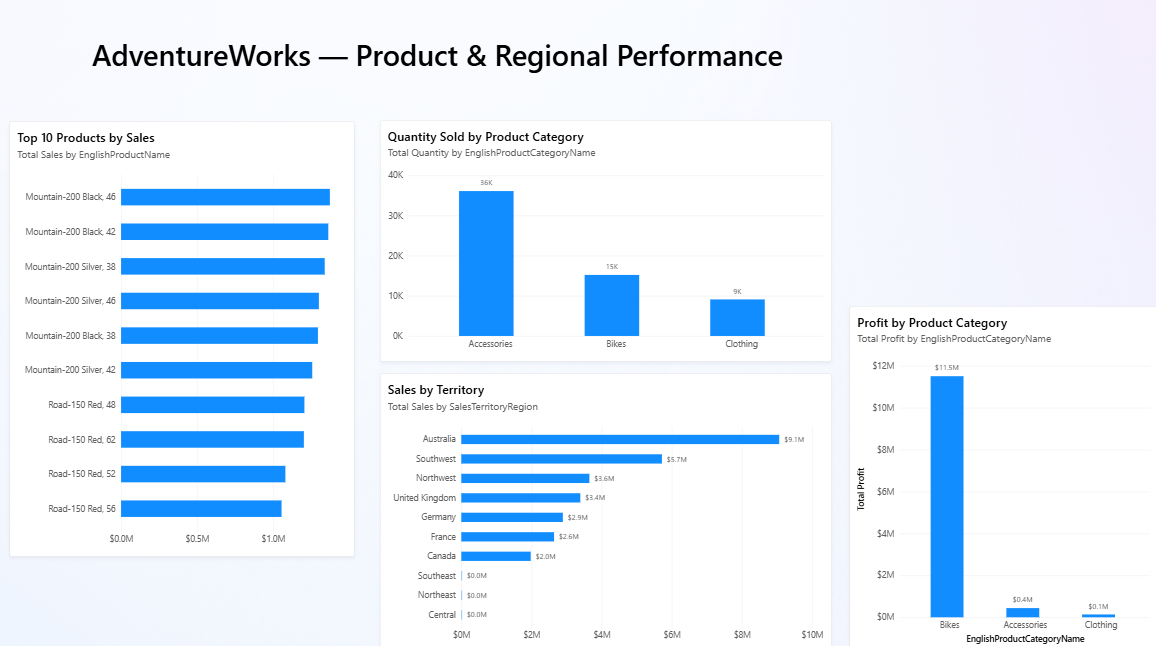

What the dashboard file says about the page in this screenshot:
{"tool":"powerbi","page":{"name":"Product & Regional Performance","canvas":[1920,1080],"ordinal":1},"visuals":[{"type":"clusteredBarChart","title":"Top 10 Products by Sales","fields":{"Category":["DimProduct.EnglishProductName"],"Y":["Measure.Total Sales"]},"box":[36.4,221,558.6,704.4],"z":0},{"type":"clusteredColumnChart","title":"Profit by Product Category","fields":{"Category":["DimProductCategory.EnglishProductCategoryName"],"Y":["Measure.Total Profit"]},"box":[1396.6,519.8,500.3,561.1],"z":1000},{"type":"clusteredBarChart","title":"Sales by Territory","fields":{"Category":["DimTerritory.SalesTerritoryRegion"],"Y":["Measure.Total Sales"]},"box":[636.4,629.1,731.1,451.8],"z":2000},{"type":"clusteredColumnChart","title":"Quantity Sold by Product Category","fields":{"Category":["DimProductCategory.EnglishProductCategoryName"],"Y":["Measure.Total Quantity"]},"box":[636.4,218.6,731.1,391],"z":3000},{"type":"textbox","title":"AdventureWorks — Product & Regional Performance","box":[170,80.2,1476.7,75.3],"z":4000}]}

Visuals, with their boxes in screenshot pixels (x1, y1, x2, y2), scaled from the page's 1920x1080 canvas onto the 1156x646 screenshot:
"Top 10 Products by Sales" clusteredBarChart: rect(22, 132, 358, 554)
"Profit by Product Category" clusteredColumnChart: rect(841, 311, 1142, 645)
"Sales by Territory" clusteredBarChart: rect(383, 376, 823, 645)
"Quantity Sold by Product Category" clusteredColumnChart: rect(383, 131, 823, 365)
"AdventureWorks — Product & Regional Performance" textbox: rect(102, 48, 991, 93)
